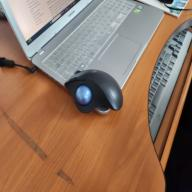Mouse: (64, 68, 124, 114)
